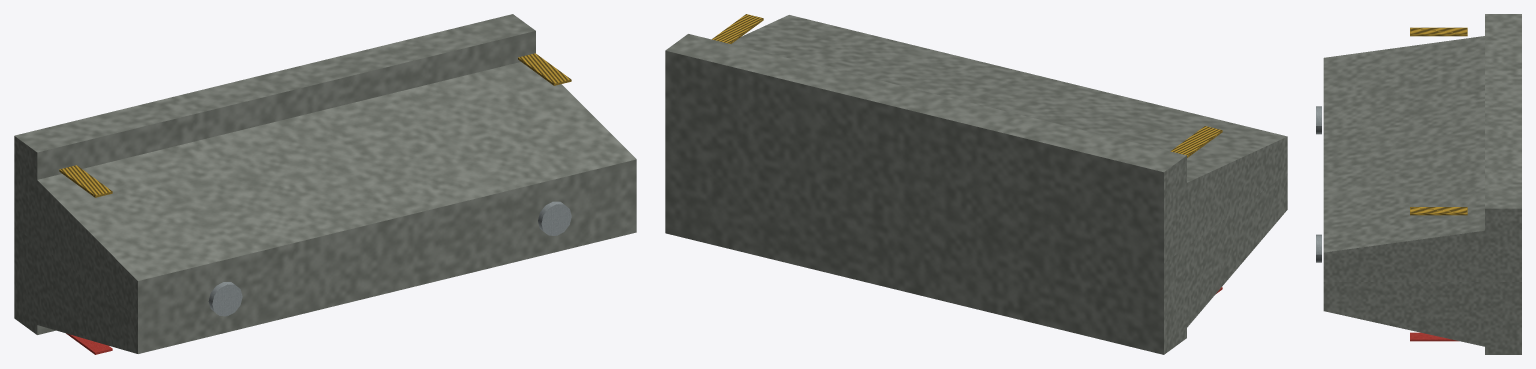
The model's file is Jersey_Barrier_Weathered_2m.glb.
3 views of the same model, side by side, from view 1: azimuth 30°, elevation 25°; view 2: azimuth 150°, elevation 25°; view 3: azimuth 270°, elevation 25° (orthographic). The views are drawn at different scales.
Parts seen in each view (by area): view 1: Jersey_Barrier_Weathered_2m__CAST_CONCRETE_PROFILE, Jersey_Barrier_Weathered_2m__LIFT_ANCHOR_1.66, Jersey_Barrier_Weathered_2m__LIFT_ANCHOR_0.34, Jersey_Barrier_Weathered_2m__REFLECTOR_REAR_0.08, Jersey_Barrier_Weathered_2m__REFLECTOR_REAR_1.92; view 2: Jersey_Barrier_Weathered_2m__CAST_CONCRETE_PROFILE, Jersey_Barrier_Weathered_2m__REFLECTOR_REAR_0.08, Jersey_Barrier_Weathered_2m__REFLECTOR_REAR_1.92; view 3: Jersey_Barrier_Weathered_2m__CAST_CONCRETE_PROFILE, Jersey_Barrier_Weathered_2m__REFLECTOR_REAR_0.08, Jersey_Barrier_Weathered_2m__REFLECTOR_REAR_1.92, Jersey_Barrier_Weathered_2m__REFLECTOR_FRONT_1.92, Jersey_Barrier_Weathered_2m__LIFT_ANCHOR_0.34, Jersey_Barrier_Weathered_2m__LIFT_ANCHOR_1.66.
Part boxes in pixels (box(x1,y1,x2,y2)): Jersey_Barrier_Weathered_2m__CAST_CONCRETE_PROFILE: box(14, 14, 636, 353); Jersey_Barrier_Weathered_2m__LIFT_ANCHOR_1.66: box(538, 201, 571, 235); Jersey_Barrier_Weathered_2m__LIFT_ANCHOR_0.34: box(208, 282, 242, 316); Jersey_Barrier_Weathered_2m__REFLECTOR_REAR_0.08: box(59, 165, 112, 197); Jersey_Barrier_Weathered_2m__REFLECTOR_REAR_1.92: box(518, 53, 571, 85); Jersey_Barrier_Weathered_2m__CAST_CONCRETE_PROFILE: box(665, 15, 1287, 354); Jersey_Barrier_Weathered_2m__REFLECTOR_REAR_0.08: box(1170, 126, 1222, 157); Jersey_Barrier_Weathered_2m__REFLECTOR_REAR_1.92: box(712, 14, 763, 43); Jersey_Barrier_Weathered_2m__CAST_CONCRETE_PROFILE: box(1323, 14, 1521, 354); Jersey_Barrier_Weathered_2m__REFLECTOR_REAR_0.08: box(1410, 27, 1467, 36); Jersey_Barrier_Weathered_2m__REFLECTOR_REAR_1.92: box(1410, 207, 1467, 215); Jersey_Barrier_Weathered_2m__REFLECTOR_FRONT_1.92: box(1410, 332, 1458, 341); Jersey_Barrier_Weathered_2m__LIFT_ANCHOR_0.34: box(1316, 106, 1321, 134); Jersey_Barrier_Weathered_2m__LIFT_ANCHOR_1.66: box(1316, 234, 1321, 262).
Bounding box in the file's own units: 2 × 0.7 × 0.8925.
Materials: 4 (4 with a texture image).
